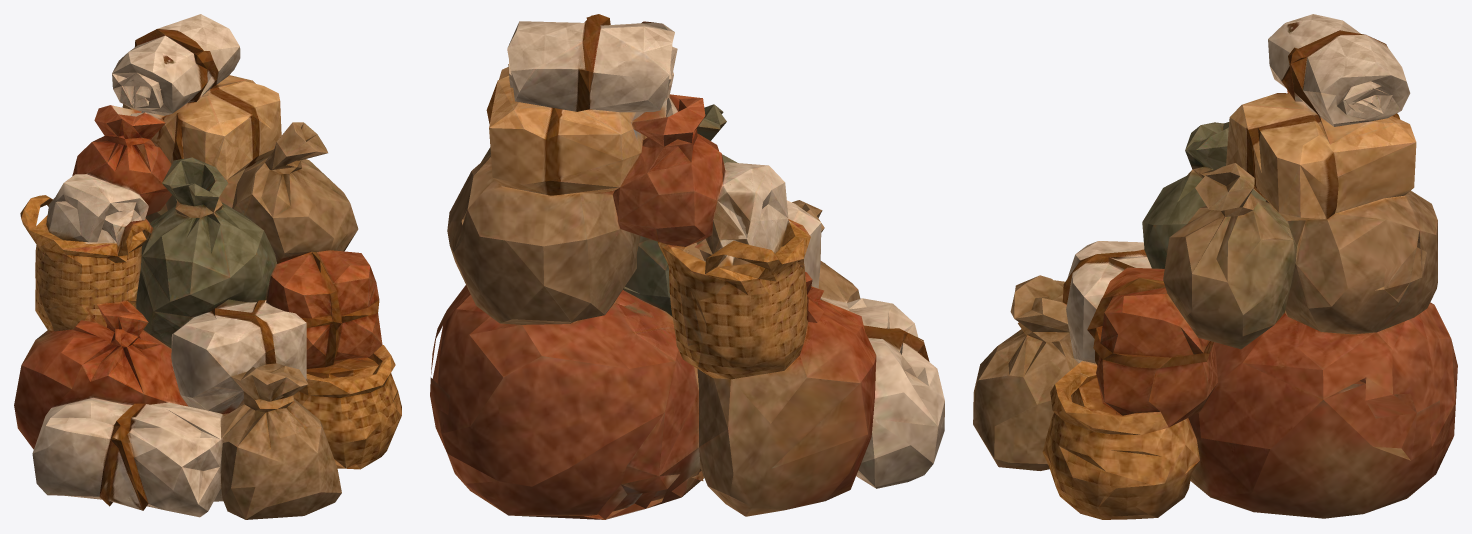
File: baggage-pile.glb
3 views of the same model, side by side, from view 1: azimuth 30°, elevation 25°; view 2: azimuth 150°, elevation 25°; view 3: azimuth 270°, elevation 25° (orthographic). The views are drawn at different scales.
Size of the model in its own units: 1.77 by 1.85 by 1.9.
1 material, 1 textured.
